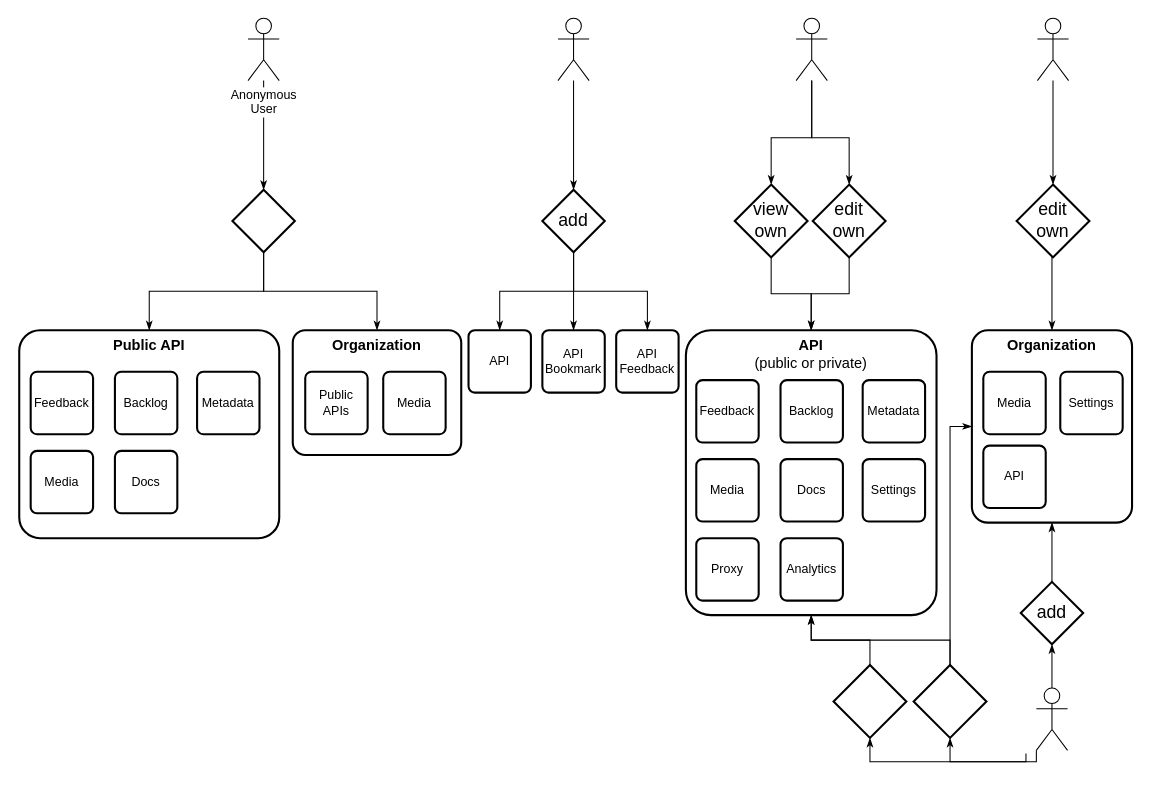
This 1150x806 diagram has some shape labels left out. Each missing label, with the centre of its shape:
"Admin User" belongs at pixel 1051 718.
"API Manager" belongs at pixel 811 49.
"Authenticated User" belongs at pixel 573 49.
"edit any" belongs at pixel 949 701.
"Organization Manager" belongs at pixel 1052 49.
"view" belongs at pixel 263 220.
"view any" belongs at pixel 869 701.
